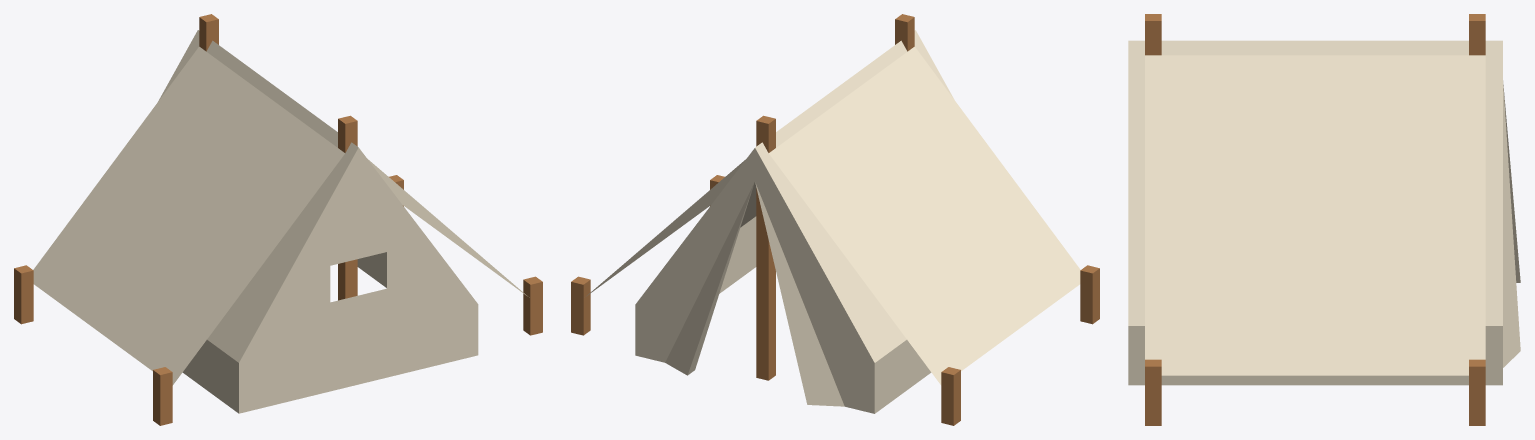
File: tent.glb
3 renders of one model, left to right at view 1: azimuth 30°, elevation 25°; view 2: azimuth 150°, elevation 25°; view 3: azimuth 270°, elevation 25°, orthographic. The views are drawn at different scales.
Parts seen in each view (by area): view 1: tent_detailedOpen; view 2: tent_detailedOpen; view 3: tent_detailedOpen.
Boxes of the visible parts, x1=… form: tent_detailedOpen: x1=14, y1=14, x2=542, y2=425; tent_detailedOpen: x1=571, y1=14, x2=1099, y2=425; tent_detailedOpen: x1=1128, y1=14, x2=1520, y2=425.
Bounding box in the file's own units: 2.01 × 1.29 × 1.53.
